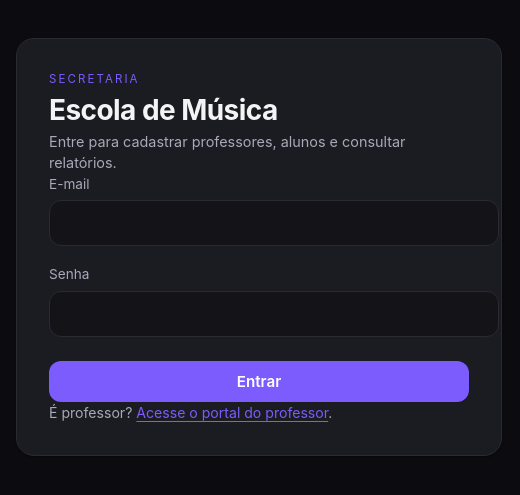
Test: Login › exibe mensagem de erro quando as credenciais sao invalidas
Type "admin@escola.com" into the field labelled "E-mail". click: {"x": 274, "y": 223}
box: [49,200,499,246]
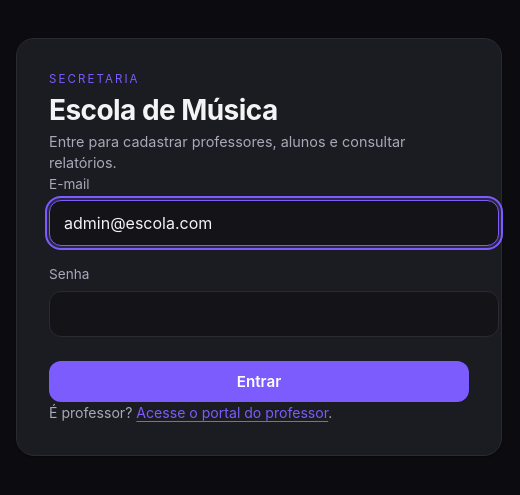
Type "errada" into the password field labelled "Senha". click: {"x": 274, "y": 314}
box: [49,291,499,337]
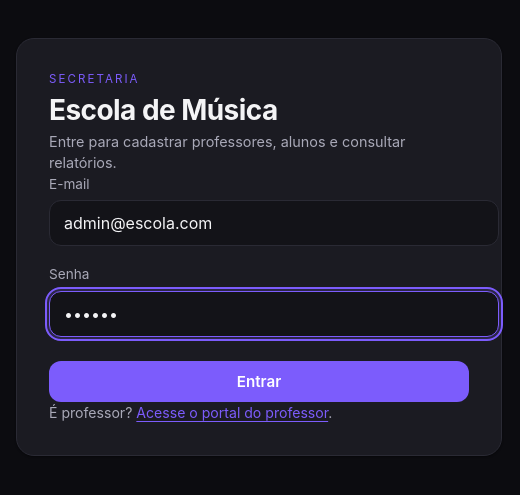
Click the button "Entrar". click: {"x": 259, "y": 381}
box: [49,361,469,402]
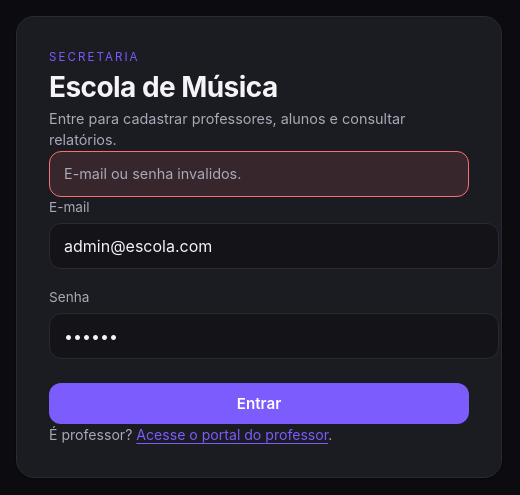
Expected: the message reads "E-mail ou senha invalidos.", [64,165,241,182]
